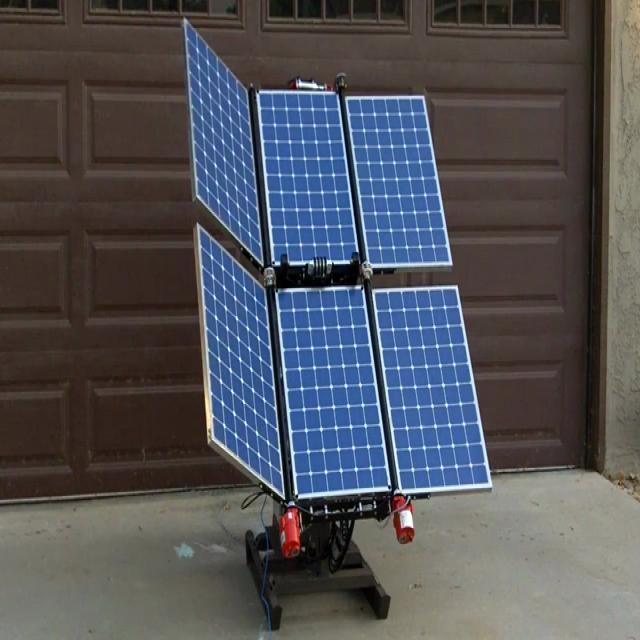Normal Solar Panel: (196, 226, 284, 500), (375, 289, 491, 493), (278, 289, 390, 500), (185, 19, 264, 265), (347, 97, 452, 268), (258, 91, 358, 263)
